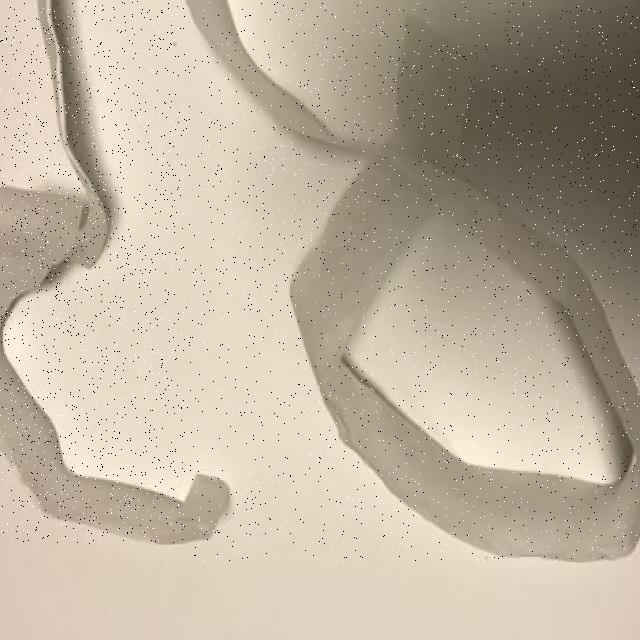paper: (186, 1, 640, 562), (0, 1, 231, 543)
